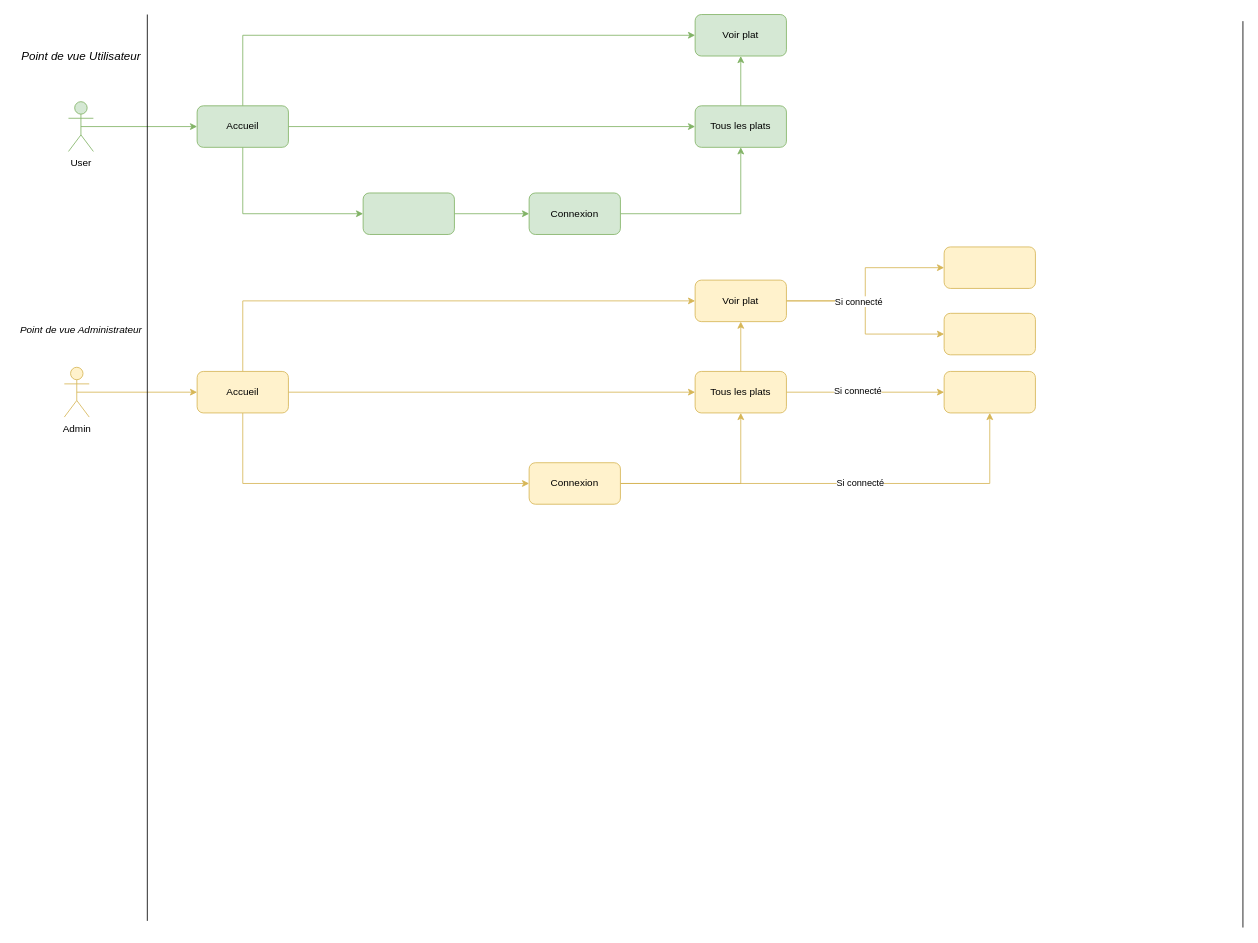
This 1258x943 diagram has some shape labels left out. The box of each missing label's shape, as (x1, y1, x2, y2) in pixels:
Ajouter nouveau: (943, 371, 1035, 413)
Inscription: (362, 192, 454, 234)
Modification: (943, 246, 1035, 288)
Suppression: (943, 312, 1035, 355)
